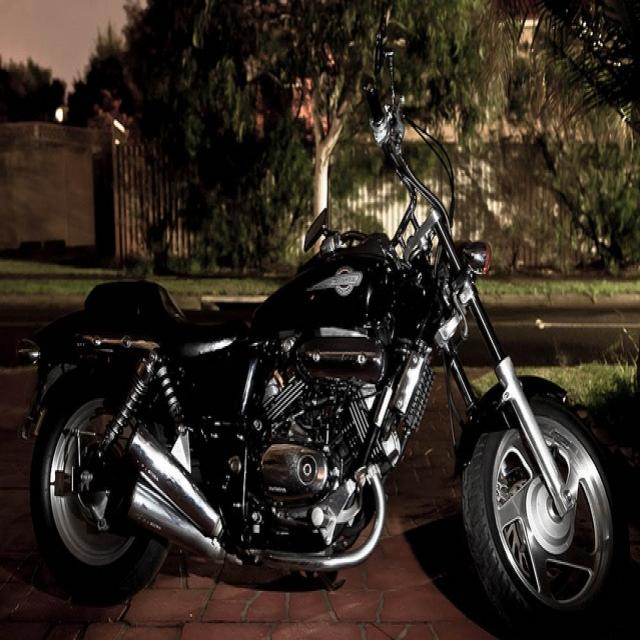Motorbike: (15, 54, 629, 640)
